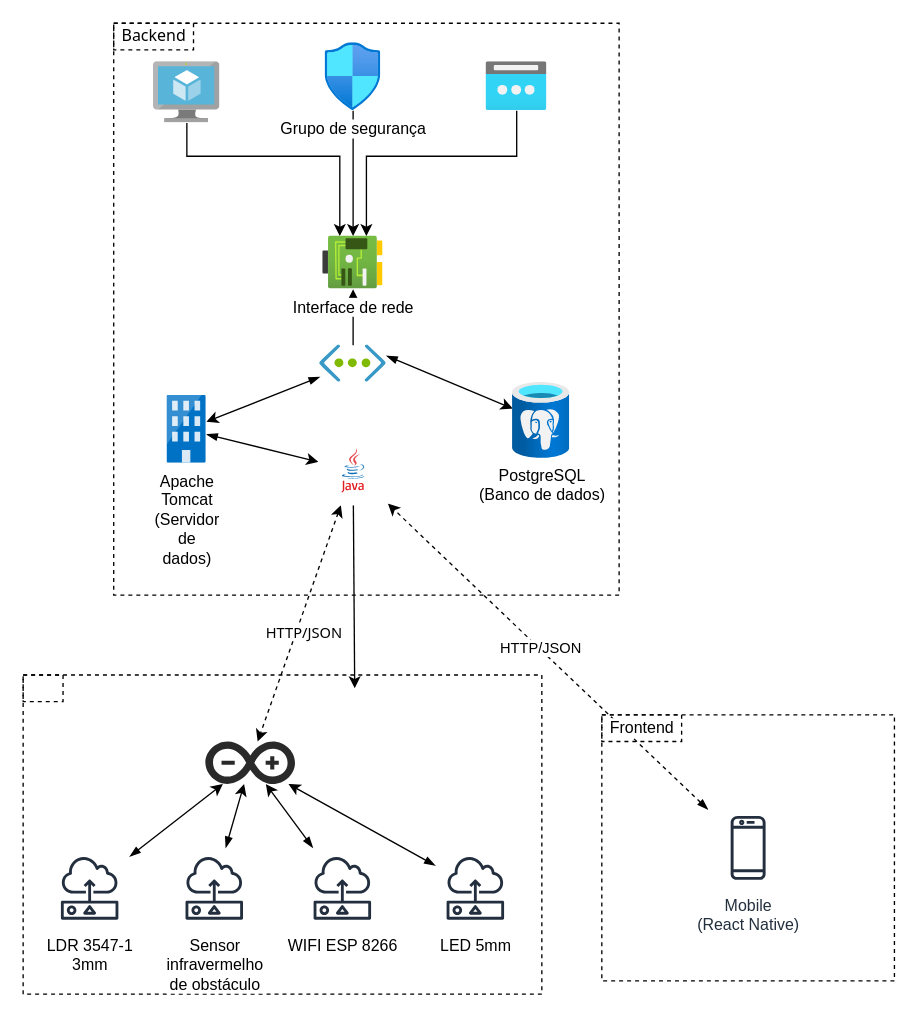
The diagram is 919 pixels wide and 1017 high, and some of its shapes have lost their labels. Each missing label, with the box of its shape:
Arduino: (205, 741, 294, 783)
IoT: (22, 674, 63, 702)
IP Público: (485, 61, 546, 110)
Máquina Virtual (Linux): (153, 61, 219, 122)
Spring Boot (Backend/API): (317, 434, 388, 505)
Virtual Network: (319, 344, 386, 382)
